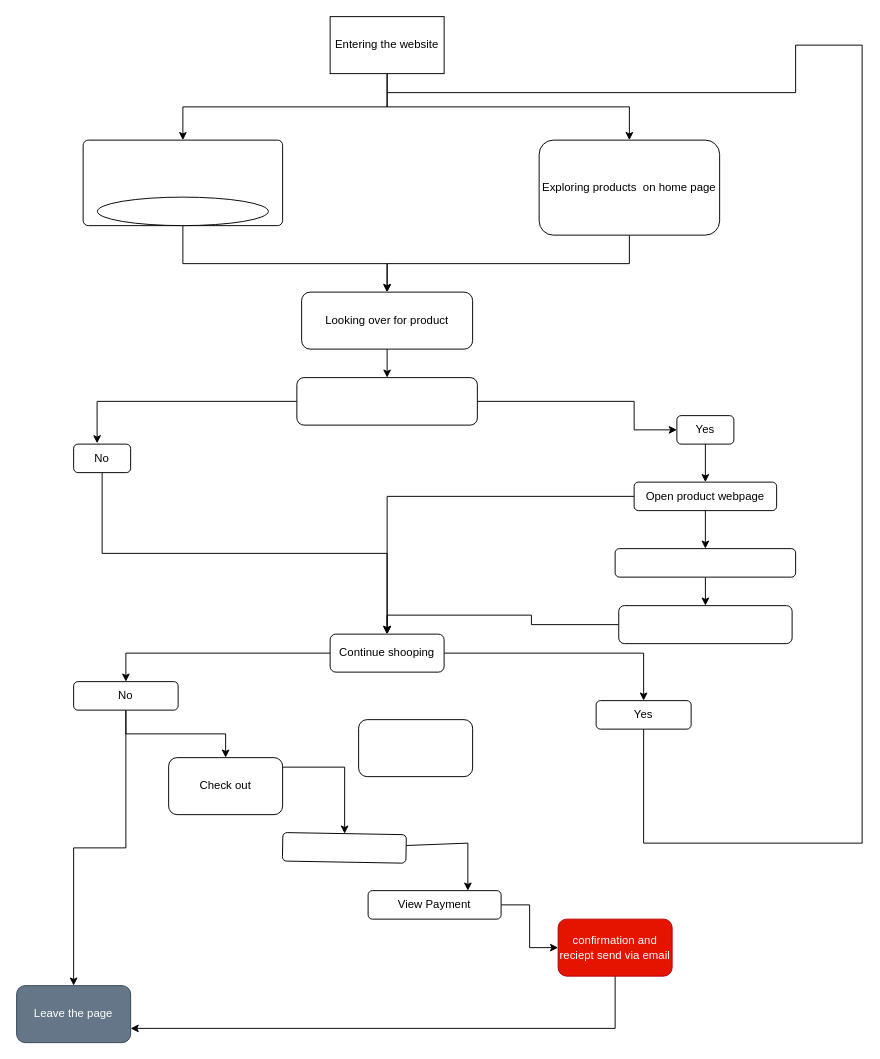
This 880x1059 diagram has some shape labels left out. The box of each missing label's shape, as (x1, y1, x2, y2) in pixels:
add stuff to cart: (614, 548, 796, 577)
enter payment: (358, 719, 473, 777)
provide input for search: (96, 196, 268, 226)
Recieve added confirmation: (618, 605, 792, 644)
Searching for product: (82, 139, 283, 226)
View cart: (281, 832, 406, 863)
Viewing a specific products: (296, 377, 477, 425)
